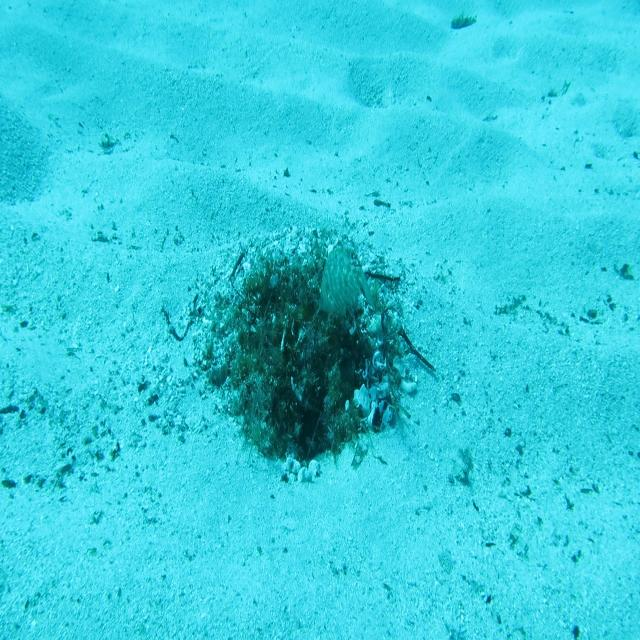core_nest: (272, 285, 328, 320)
nest: (191, 214, 435, 492)
vegetation: (451, 15, 478, 34)
